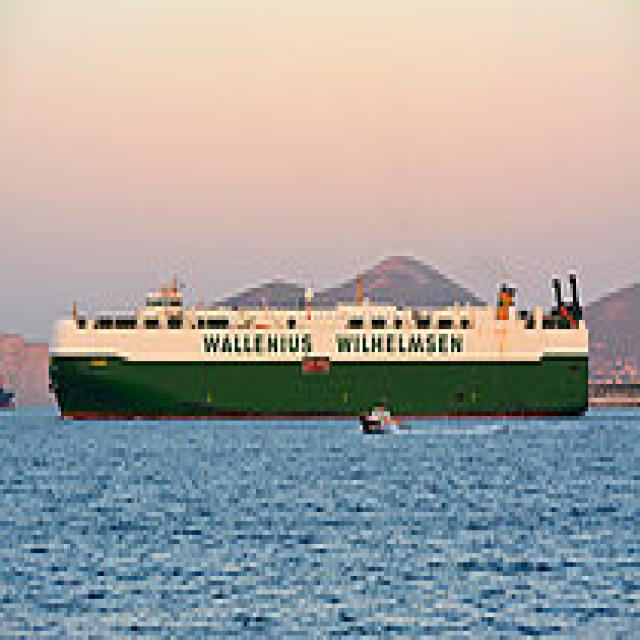Carrier: (43, 265, 591, 421)
